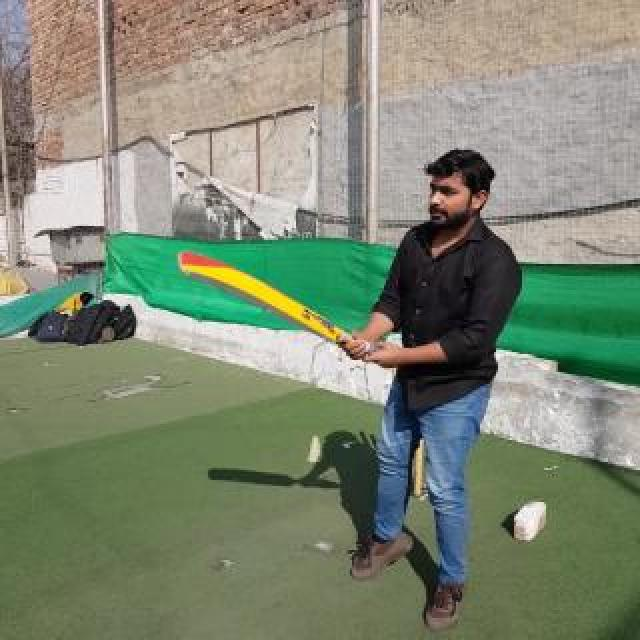bat: (178, 249, 376, 355)
